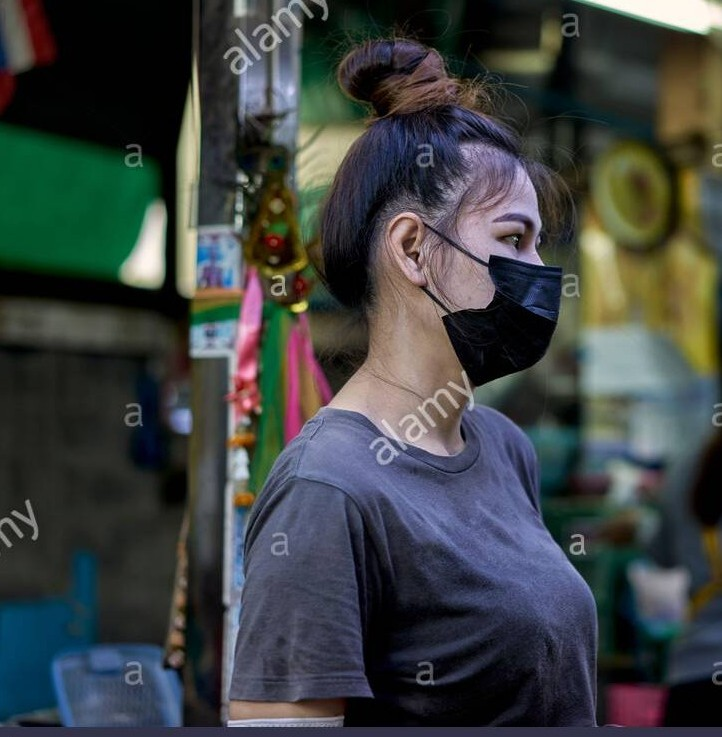with_mask: (374, 134, 578, 381)
